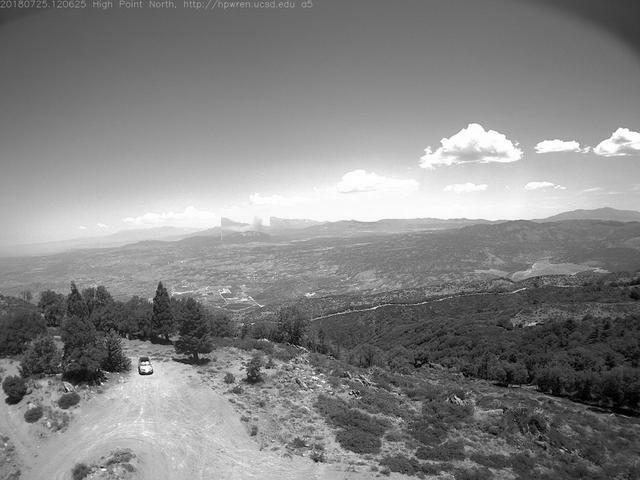smoke: (222, 210, 272, 242)
